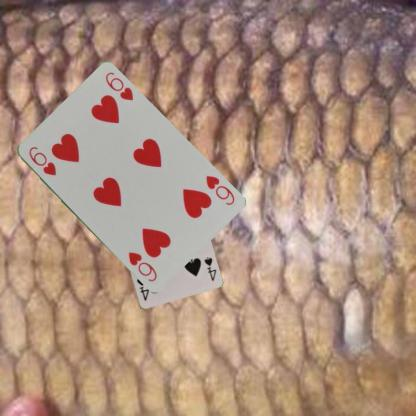4s: (202, 254, 217, 282)
6h: (203, 173, 236, 207), (26, 144, 58, 177)
